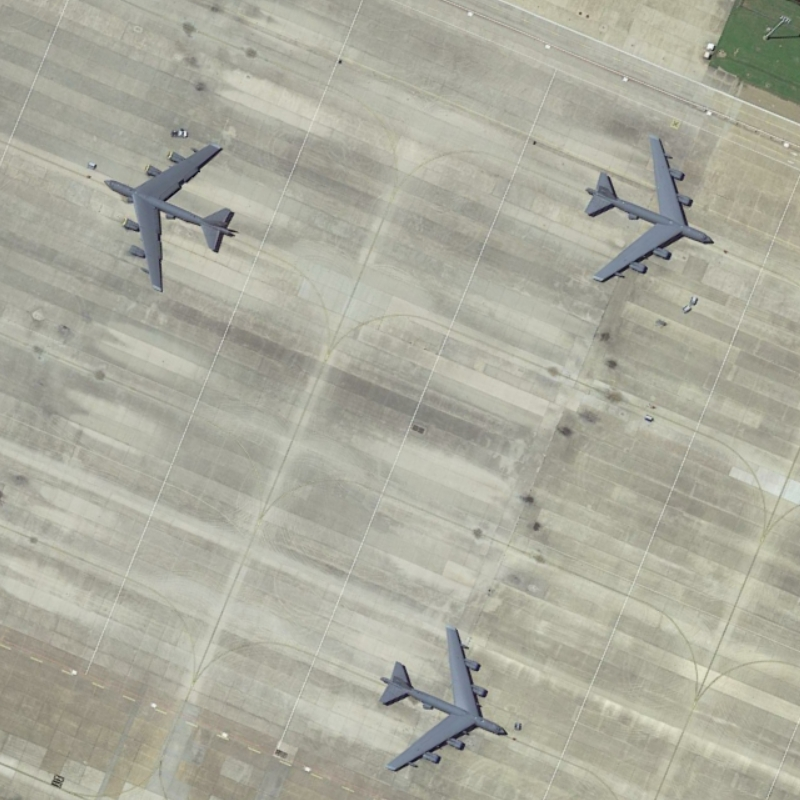A8: (94, 136, 246, 300), (366, 618, 513, 778), (574, 127, 718, 289)
